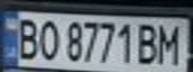1: (115, 19, 136, 64)
7: (78, 18, 100, 63), (97, 19, 118, 63)
8: (60, 17, 84, 62)
B: (12, 15, 42, 61), (136, 20, 163, 65)
M: (154, 20, 184, 66)
O: (33, 16, 60, 61)
